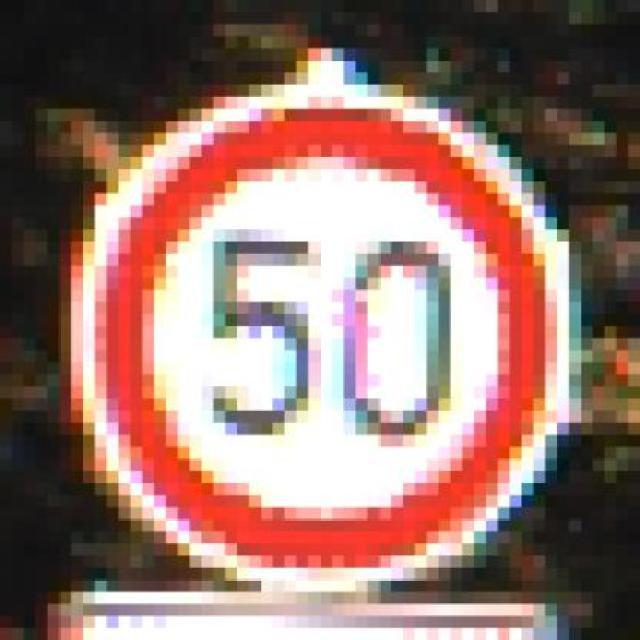50 mph speed limit: (58, 56, 628, 589)
